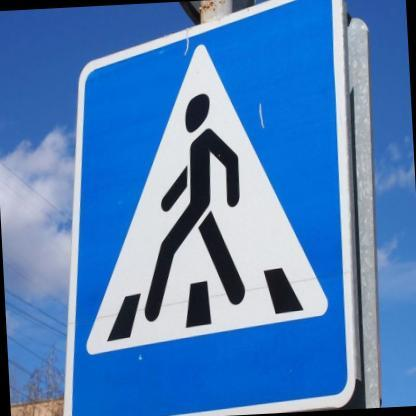road_sign: (65, 0, 357, 416)
